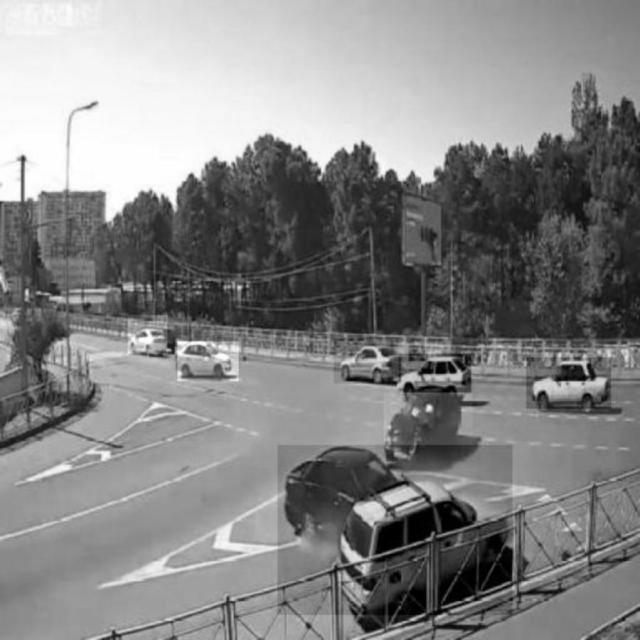accident: (277, 445, 511, 615)
vehicle: (384, 393, 472, 457), (527, 358, 611, 409), (334, 338, 398, 384), (399, 354, 471, 392), (178, 341, 239, 381), (127, 315, 167, 353)
